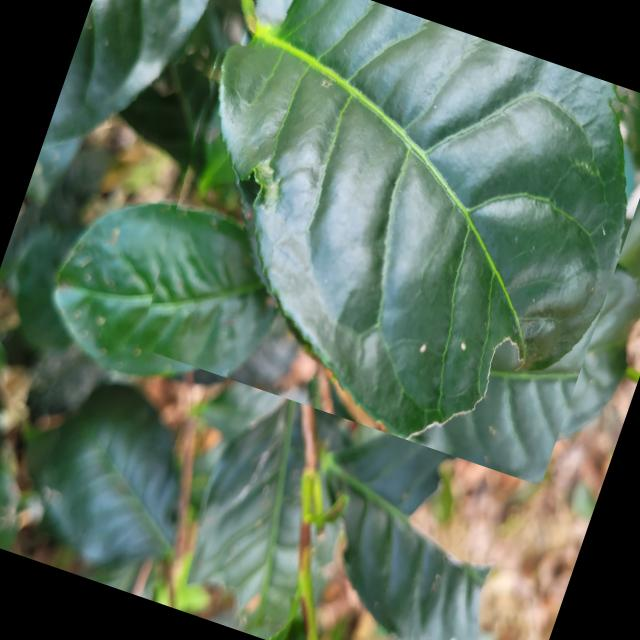Category D(7+ days, Not for Tea): (113, 0, 640, 484)
